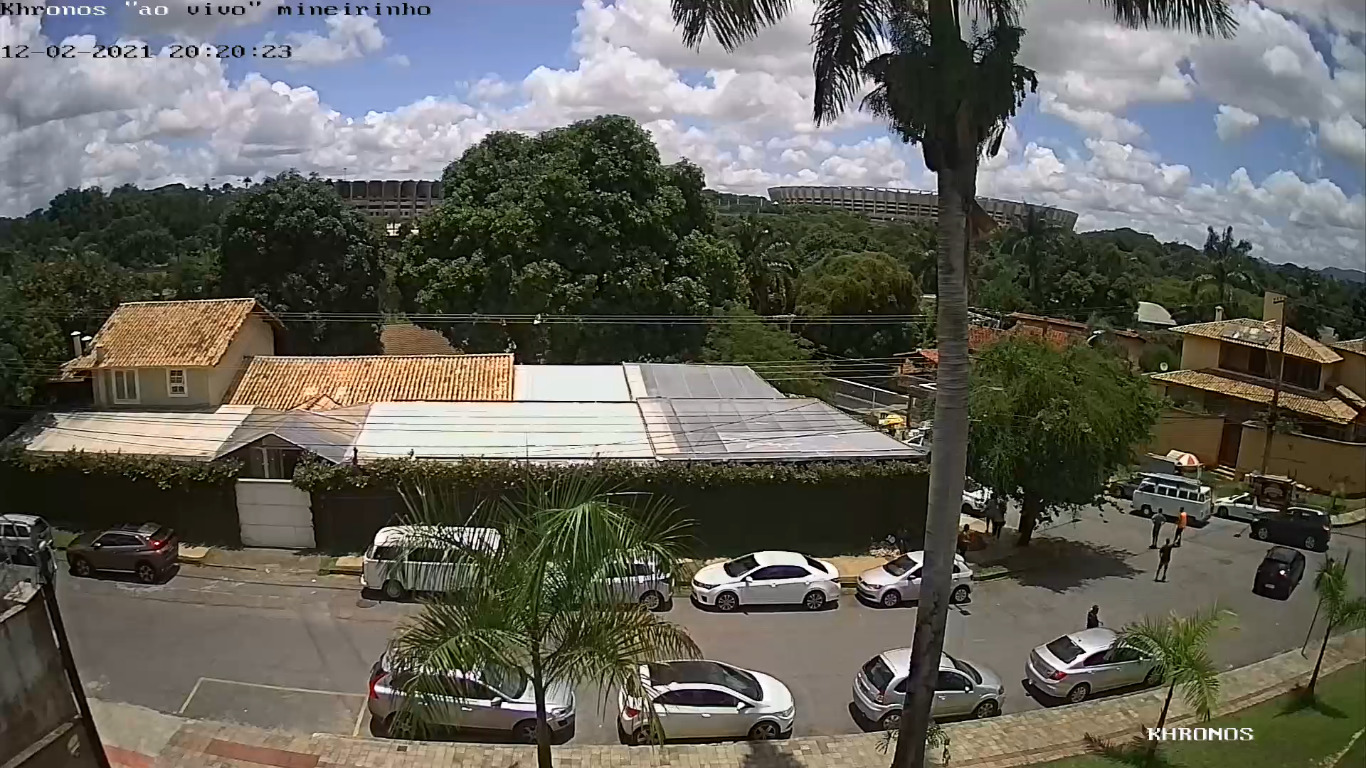car: (617, 660, 795, 745), (852, 647, 1005, 731), (1025, 627, 1166, 703), (691, 550, 841, 612), (66, 522, 179, 583), (857, 551, 973, 608)
